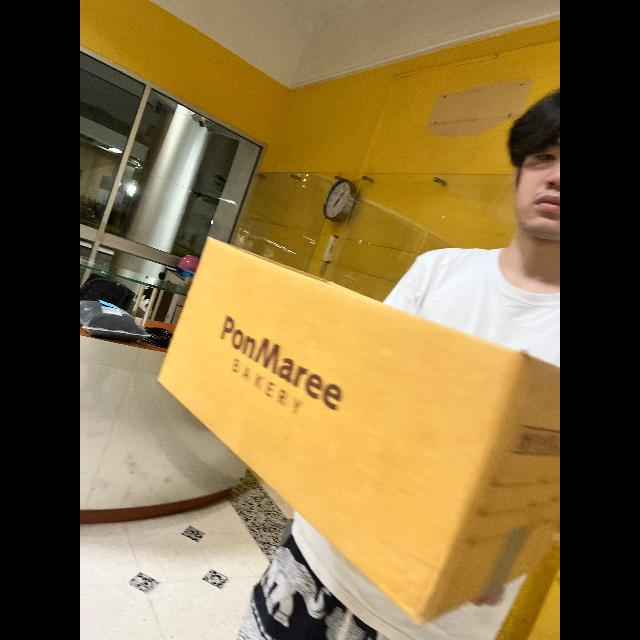cardboard_box: (153, 234, 560, 627)
